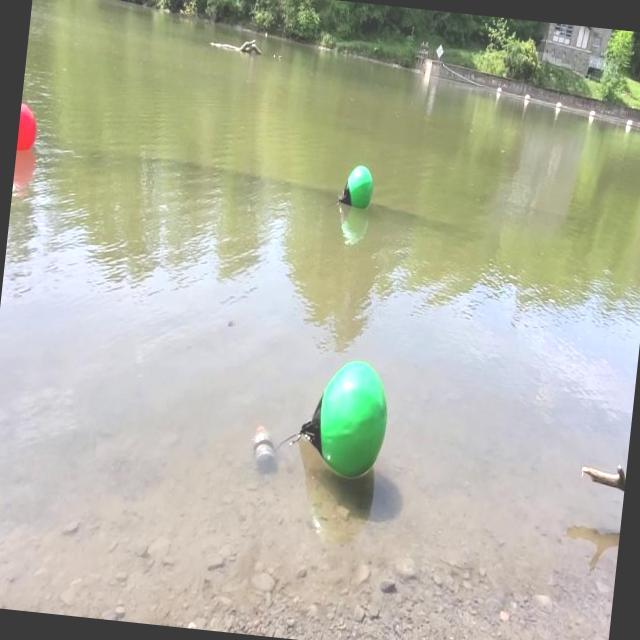buoy: (295, 352, 394, 483), (338, 162, 376, 212), (16, 104, 39, 152)
